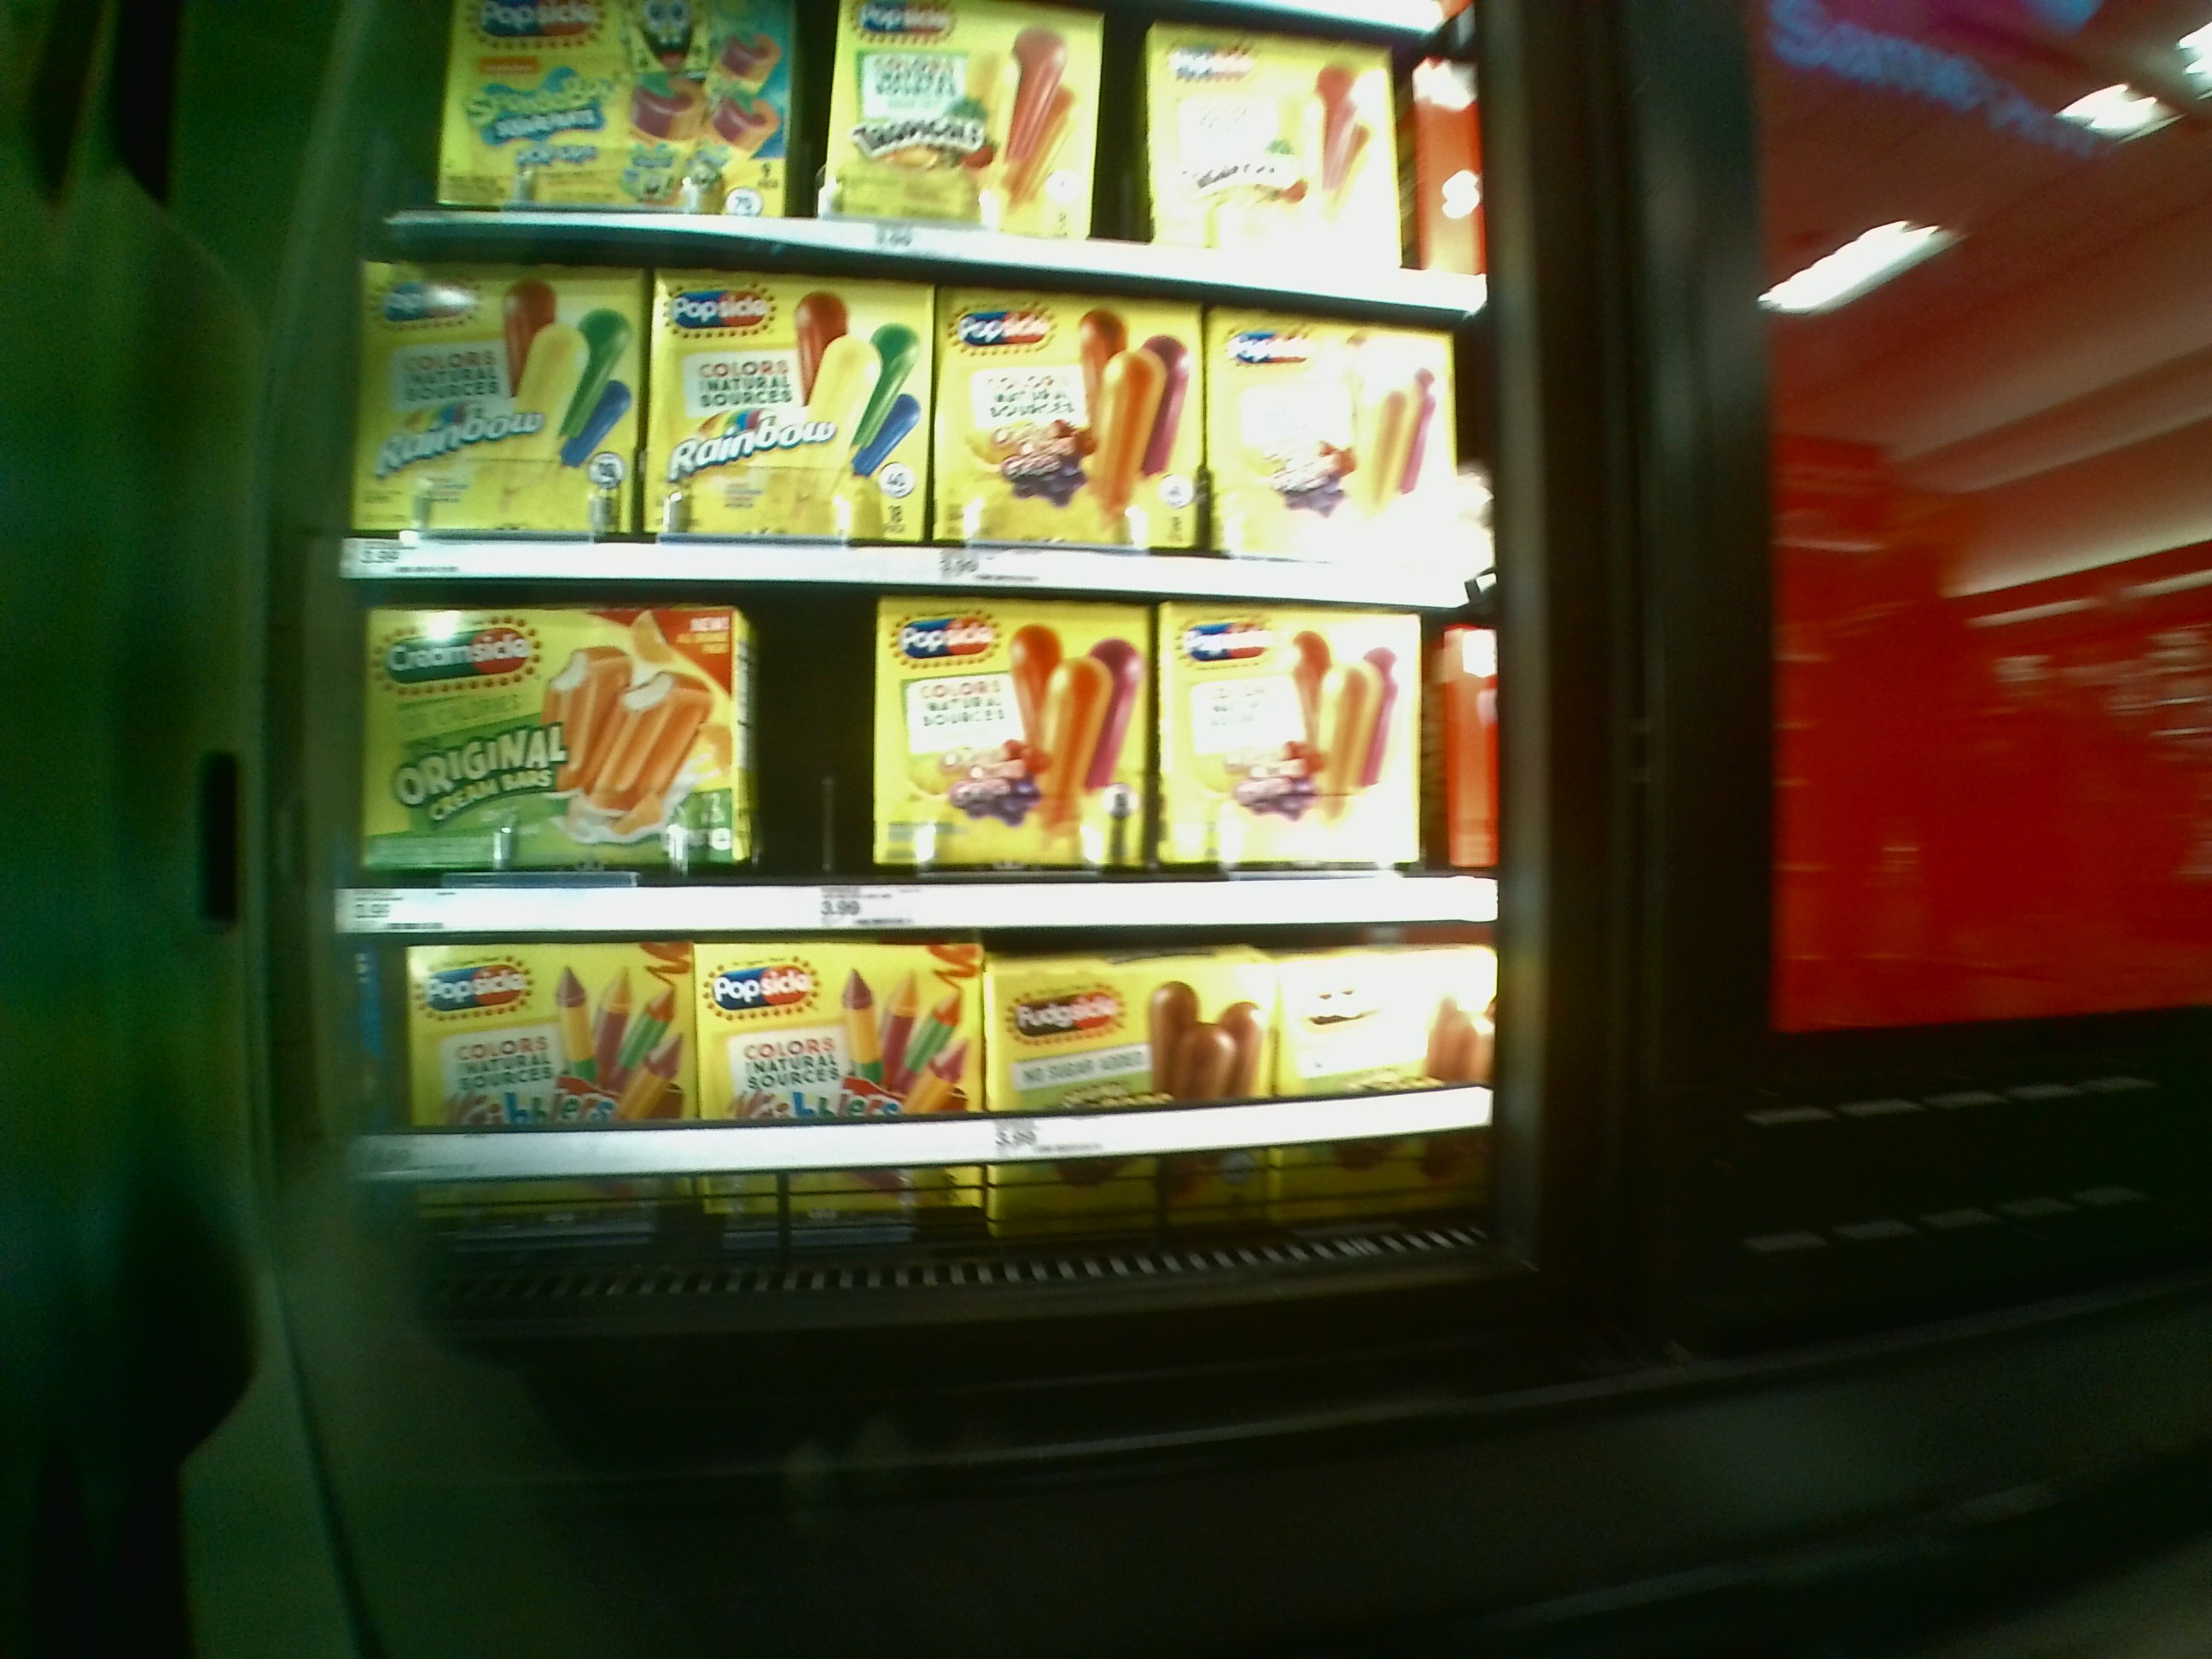shelf: (355, 230, 1470, 606), (347, 582, 1501, 934), (380, 941, 1491, 1284)
